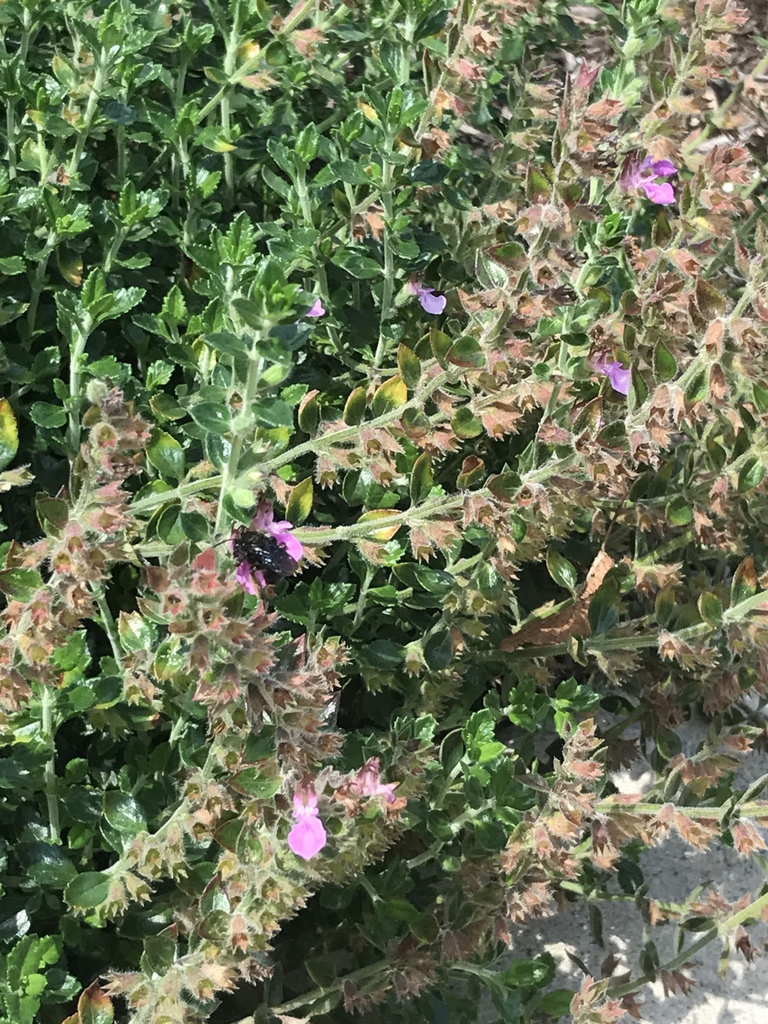not_bumblebee: (228, 521, 301, 594)
